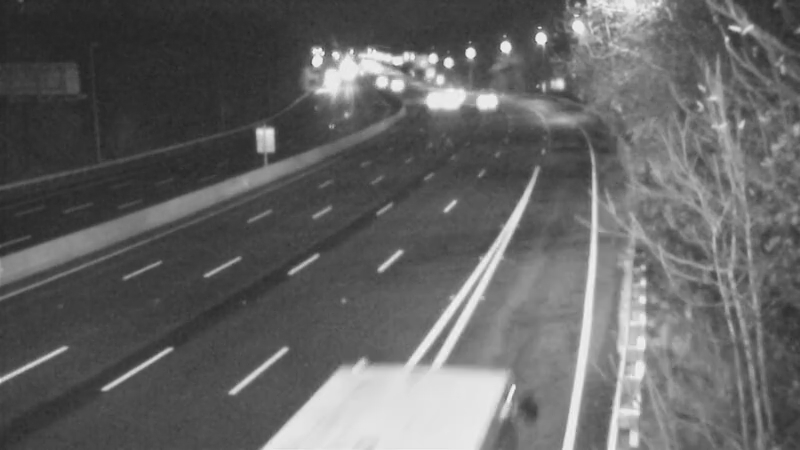vehicle: (367, 56, 417, 106), (349, 56, 399, 106), (432, 67, 482, 117), (406, 73, 456, 123), (430, 77, 480, 127), (469, 79, 519, 129)
